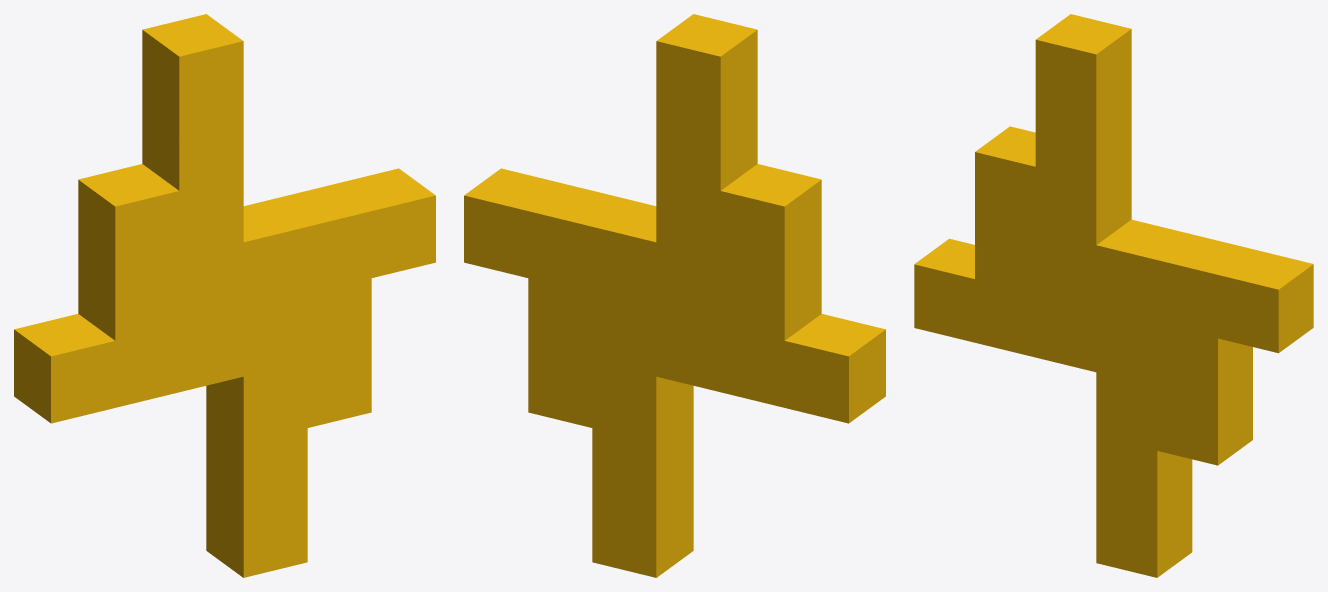
The model's file is Stun_Icon.fbx.
3 renders of one model, left to right at view 1: azimuth 30°, elevation 25°; view 2: azimuth 150°, elevation 25°; view 3: azimuth 330°, elevation 25°, orthographic. The views are drawn at different scales.
Visible parts, largest first — view 1: Stun_Icon; view 2: Stun_Icon; view 3: Stun_Icon.
Part boxes in pixels (x1,y1,x2,y2): Stun_Icon: [14, 14, 435, 577]; Stun_Icon: [464, 14, 885, 577]; Stun_Icon: [914, 14, 1313, 577].
Size of the model in its own units: 37.5 by 50 by 6.25.
1 material, 1 textured.
